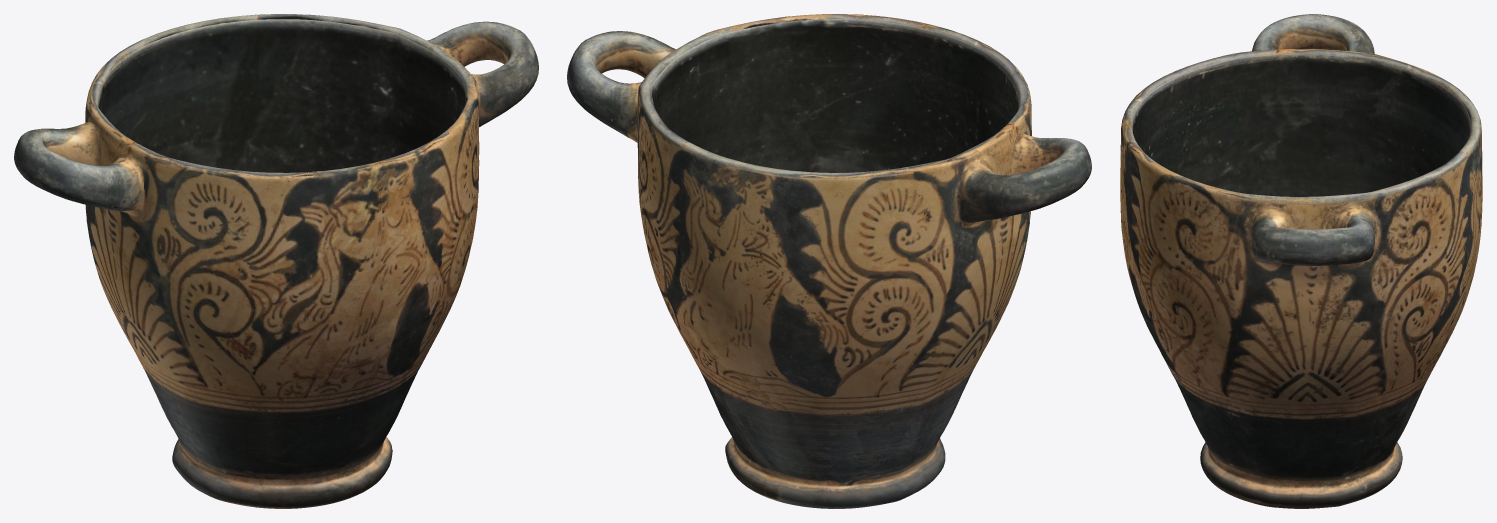
The model's file is skyphos_restored.gltf.
3 views of the same model, side by side, from view 1: azimuth 30°, elevation 25°; view 2: azimuth 150°, elevation 25°; view 3: azimuth 270°, elevation 25° (orthographic). The views are drawn at different scales.
Parts seen in each view (by area): view 1: SKYPHOS_LOWPOLY_handle; view 2: SKYPHOS_LOWPOLY_handle; view 3: SKYPHOS_LOWPOLY_handle.
Part boxes in pixels (left/top/right/bottom): SKYPHOS_LOWPOLY_handle: left=14, top=14, right=538, bottom=508; SKYPHOS_LOWPOLY_handle: left=567, top=14, right=1091, bottom=508; SKYPHOS_LOWPOLY_handle: left=1120, top=14, right=1482, bottom=508.
Bounding box in the file's own units: 0.3609 × 0.2572 × 0.2416.
Materials: 1 (1 with a texture image).
